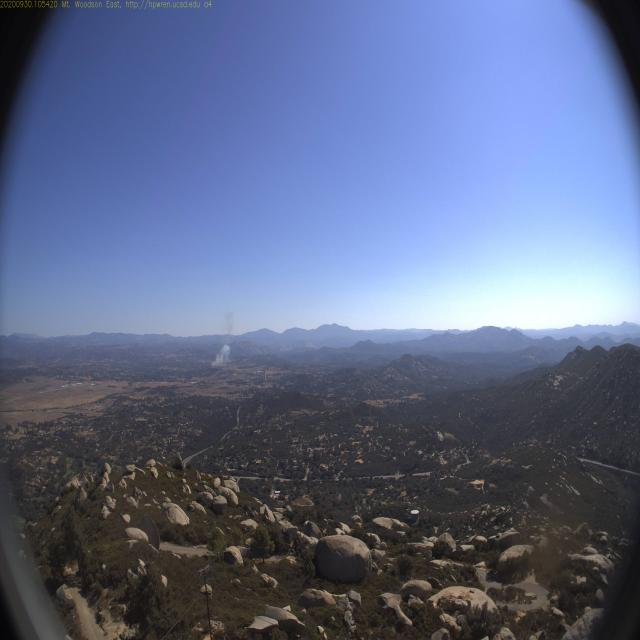smoke: (208, 344, 232, 368), (221, 307, 236, 343)
